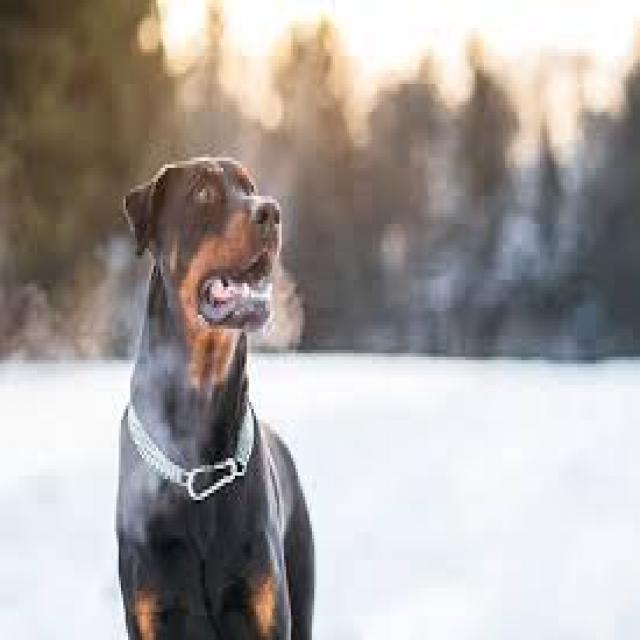Dog: (109, 143, 319, 640)
